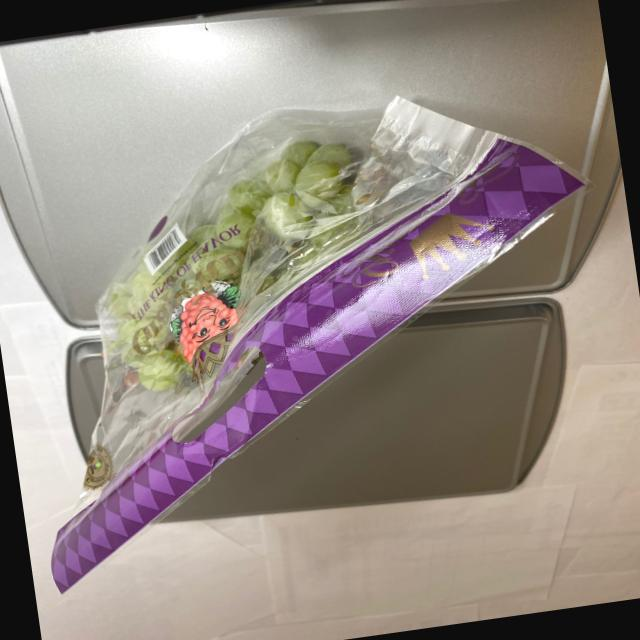grapes: (89, 128, 420, 408)
